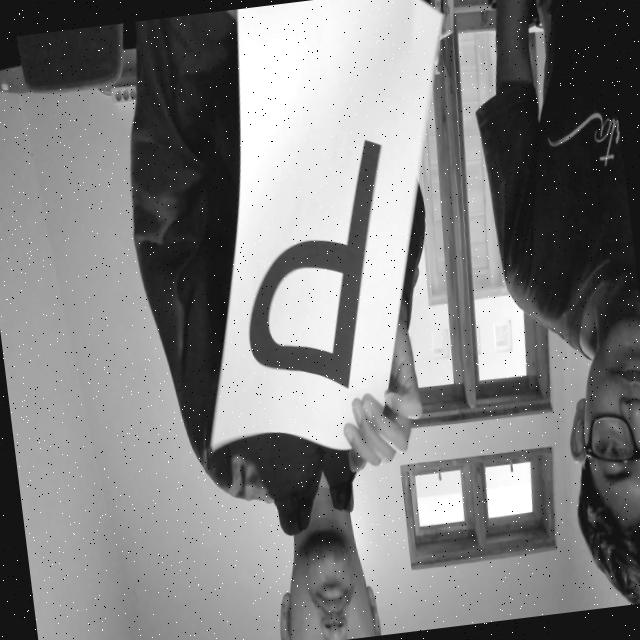p: (202, 90, 428, 433)
